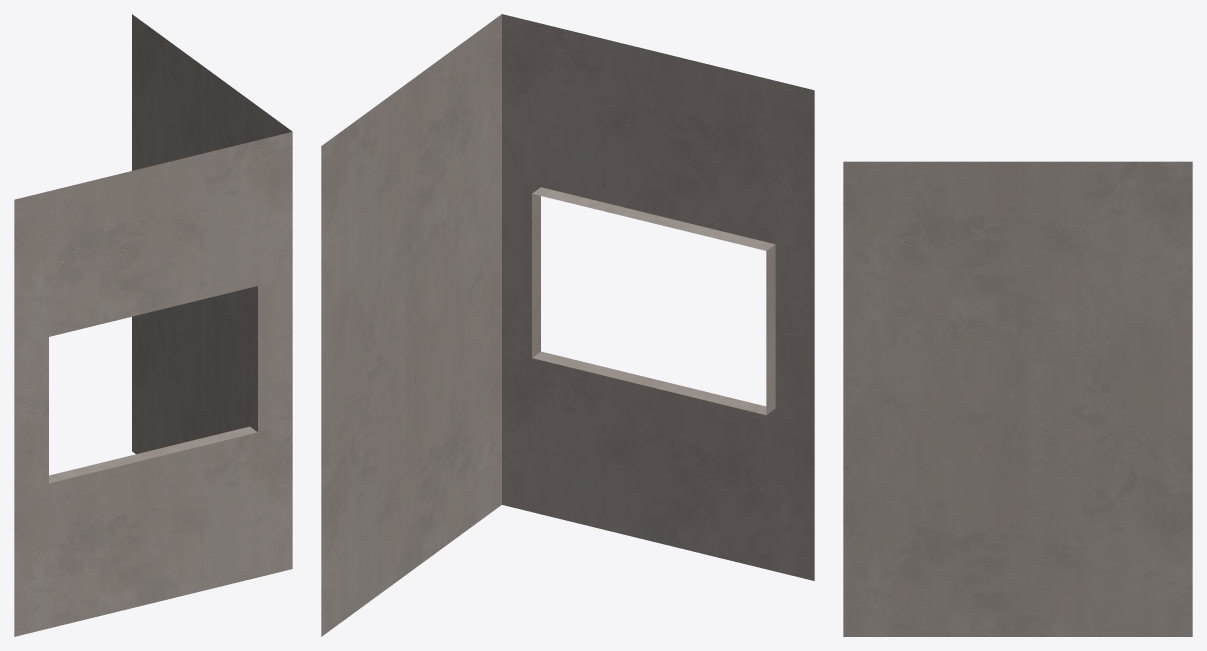
The model's file is SM_ENV_K1_WALL_WINDOW_CORNER_2X3_01.fbx.
3 renders of one model, left to right at view 1: azimuth 30°, elevation 25°; view 2: azimuth 150°, elevation 25°; view 3: azimuth 270°, elevation 25°, orthographic. The views are drawn at different scales.
Visible parts, largest first — view 1: SM_ENV_K1_WALL_WINDOW_CORNER_2X3_01; view 2: SM_ENV_K1_WALL_WINDOW_CORNER_2X3_01; view 3: SM_ENV_K1_WALL_WINDOW_CORNER_2X3_01.
Part boxes in pixels (x1=…): SM_ENV_K1_WALL_WINDOW_CORNER_2X3_01: x1=14, y1=14, x2=292, y2=636; SM_ENV_K1_WALL_WINDOW_CORNER_2X3_01: x1=321, y1=14, x2=814, y2=636; SM_ENV_K1_WALL_WINDOW_CORNER_2X3_01: x1=843, y1=161, x2=1192, y2=636.
Size of the model in its own units: 2 by 3 by 2.
